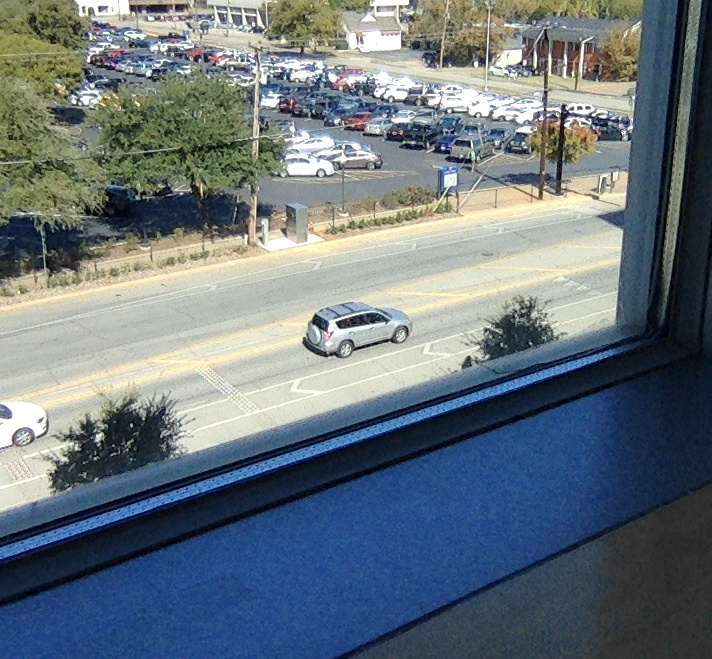car: (300, 300, 412, 359)
